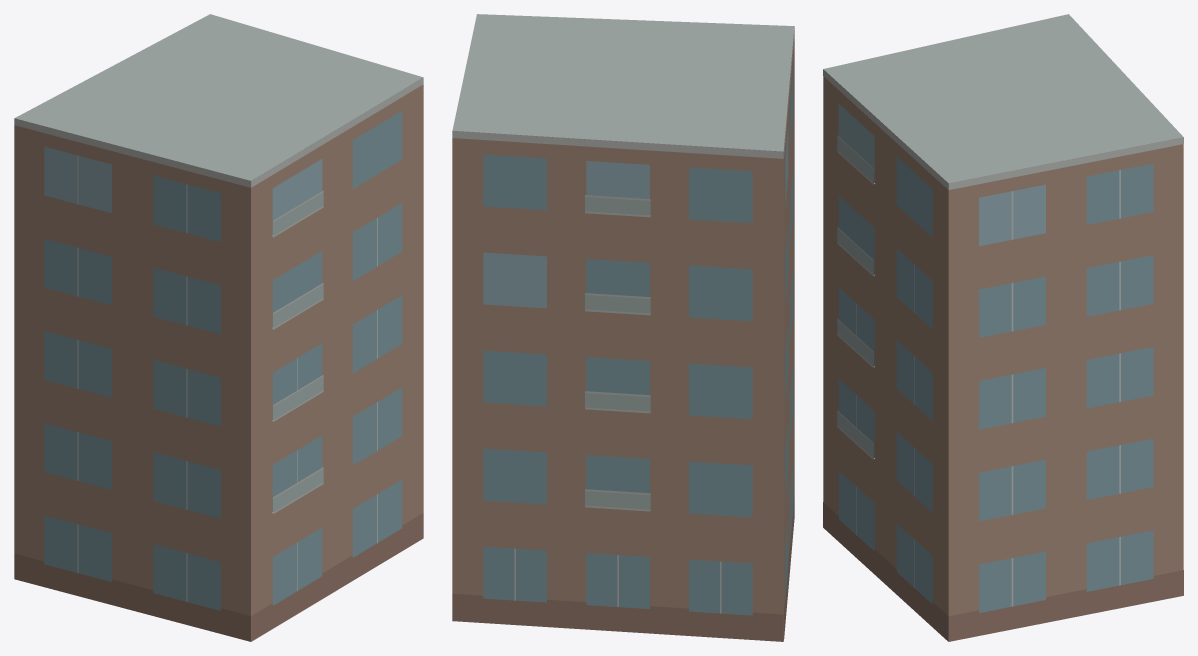
Rendered from survey-upis-32837280.glb.
3 views of the same model, side by side, from view 1: azimuth 30°, elevation 25°; view 2: azimuth 150°, elevation 25°; view 3: azimuth 270°, elevation 25° (orthographic). The views are drawn at different scales.
Parts seen in each view (by area): view 1: survey-upis-32837280.tmp; view 2: survey-upis-32837280.tmp; view 3: survey-upis-32837280.tmp.
Part boxes in pixels (x1,y1,x2,y2): survey-upis-32837280.tmp: [14, 14, 423, 641]; survey-upis-32837280.tmp: [452, 14, 794, 641]; survey-upis-32837280.tmp: [823, 14, 1183, 641].
Bounding box in the file's own units: 12.92 × 16.3 × 11.63.
